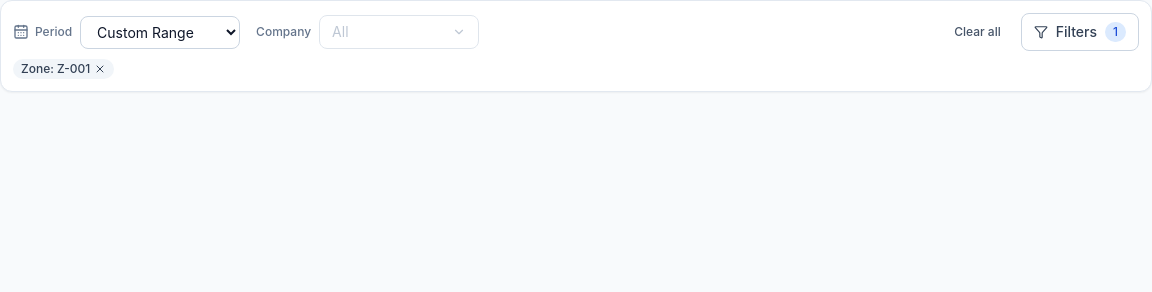
Test case: Bidirectional hierarchical filters › asks the options endpoint which level a parent belongs to
Click the button "Filters 1" at {"x": 1080, "y": 32}, box [1021,13,1139,51]
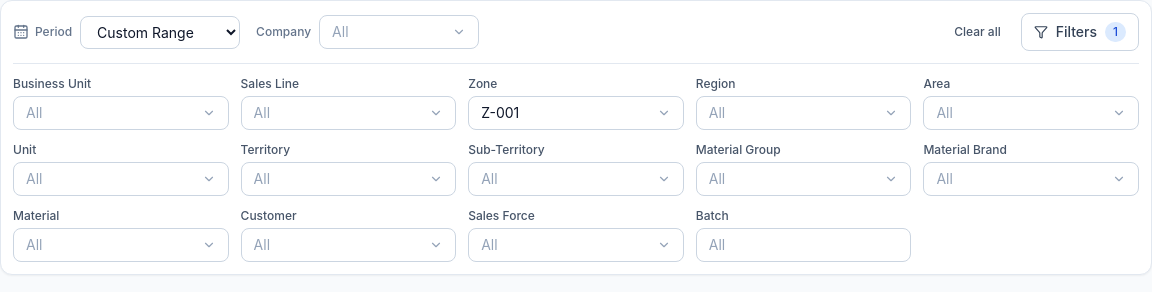
Check: the button named "Customer" is shown, box [241,228,456,262]
